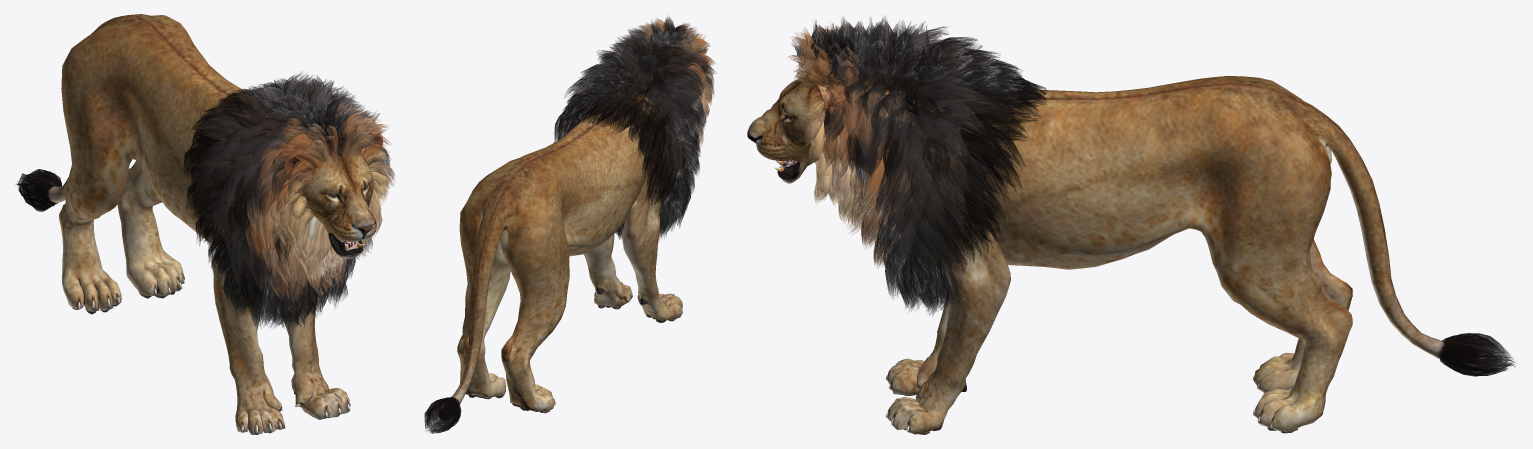
The model's file is Lion.glb.
3 views of the same model, side by side, from view 1: azimuth 30°, elevation 25°; view 2: azimuth 150°, elevation 25°; view 3: azimuth 270°, elevation 25° (orthographic). The views are drawn at different scales.
Parts seen in each view (by area): view 1: Lion_Body, Mane, Whiskers; view 2: Lion_Body, Mane; view 3: Lion_Body, Mane.
Boxes of the visible parts, bbox=[...] form: Lion_Body: bbox=[45, 14, 382, 434]; Mane: bbox=[15, 71, 395, 329]; Whiskers: bbox=[329, 214, 376, 241]; Lion_Body: bbox=[440, 43, 708, 418]; Mane: bbox=[424, 16, 716, 433]; Lion_Body: bbox=[747, 47, 1449, 434]; Mane: bbox=[788, 16, 1515, 376].
Bounding box in the file's own units: 0.5984 × 1.29 × 2.32.
Materials: 7 (5 with a texture image).
